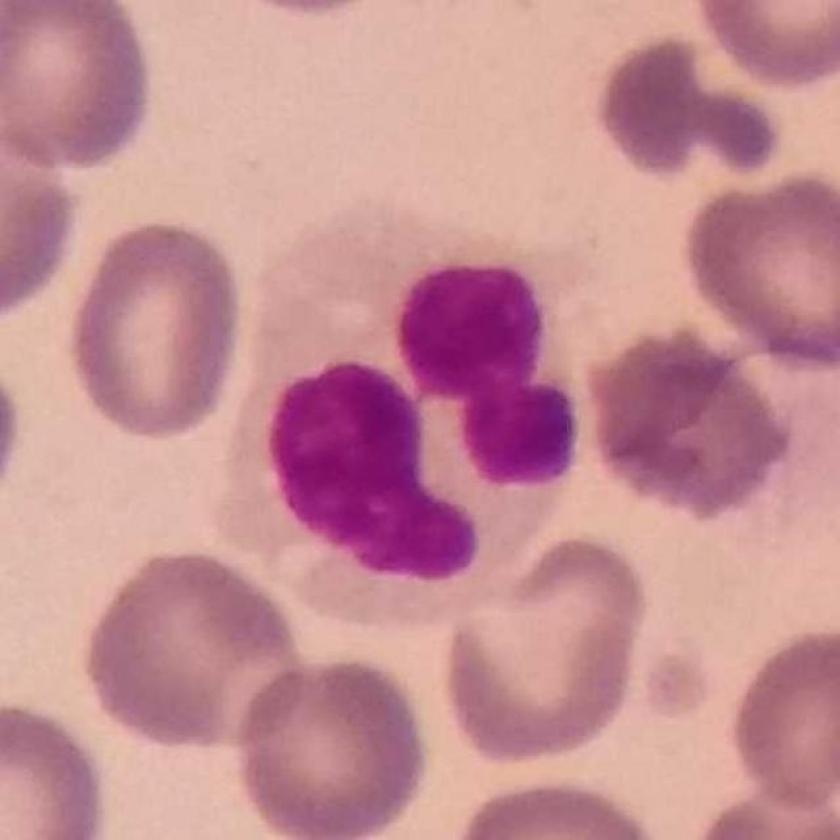monocyte: (218, 185, 601, 628)
